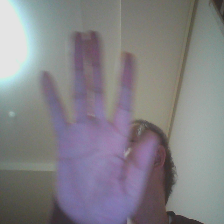hand: (36, 27, 154, 224)
